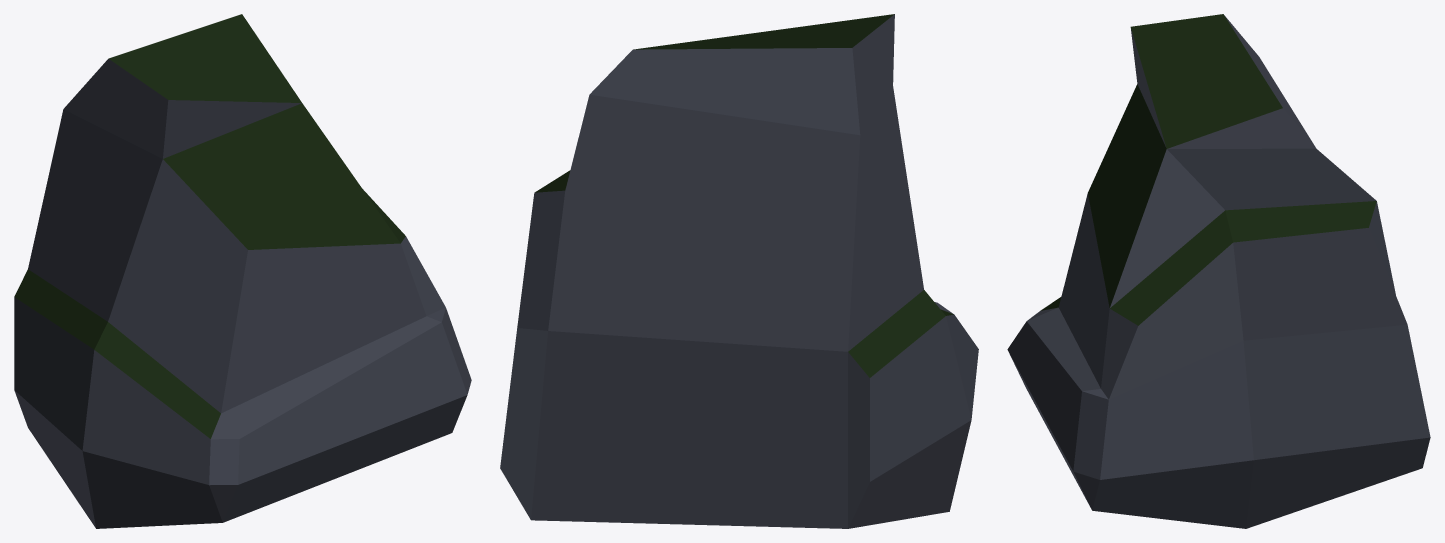
Rendered from rock_moss_2.glb.
The picture shows the model from 3 angles, left to right: view 1: azimuth 30°, elevation 25°; view 2: azimuth 150°, elevation 25°; view 3: azimuth 270°, elevation 25°; orthographic projection. The views are drawn at different scales.
Visible parts, largest first — view 1: Rock_Moss_2; view 2: Rock_Moss_2; view 3: Rock_Moss_2.
Boxes of the visible parts, left/top/right/bottom form: Rock_Moss_2: left=14, top=14, right=471, bottom=528; Rock_Moss_2: left=500, top=14, right=978, bottom=528; Rock_Moss_2: left=1007, top=14, right=1430, bottom=528.
Bounding box in the file's own units: 61.25 × 69.18 × 65.04.
